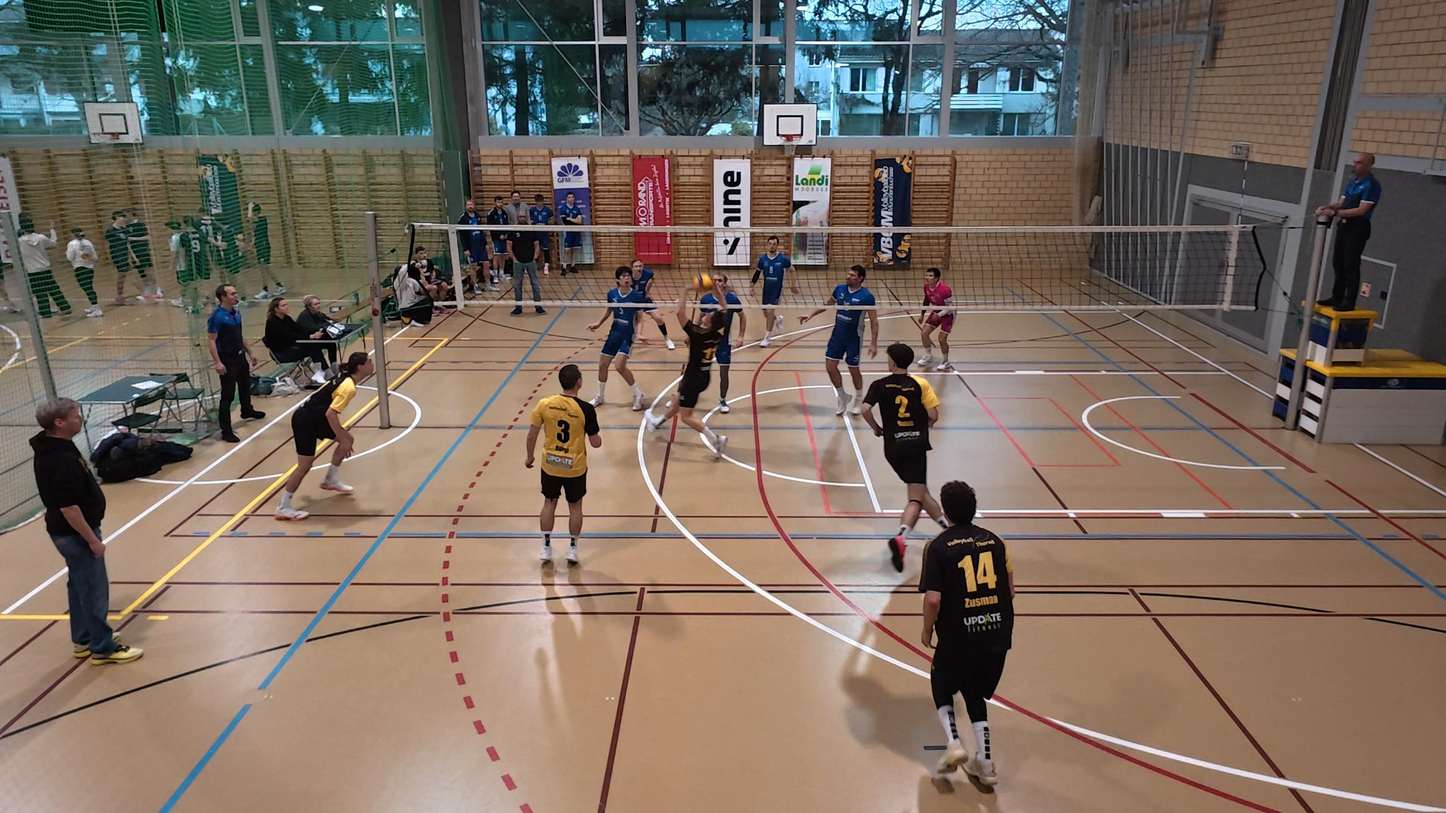alzata: (649, 291, 740, 459)
